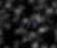three: (31, 20, 36, 28)
two: (25, 19, 30, 28)
zero: (18, 19, 23, 27)
